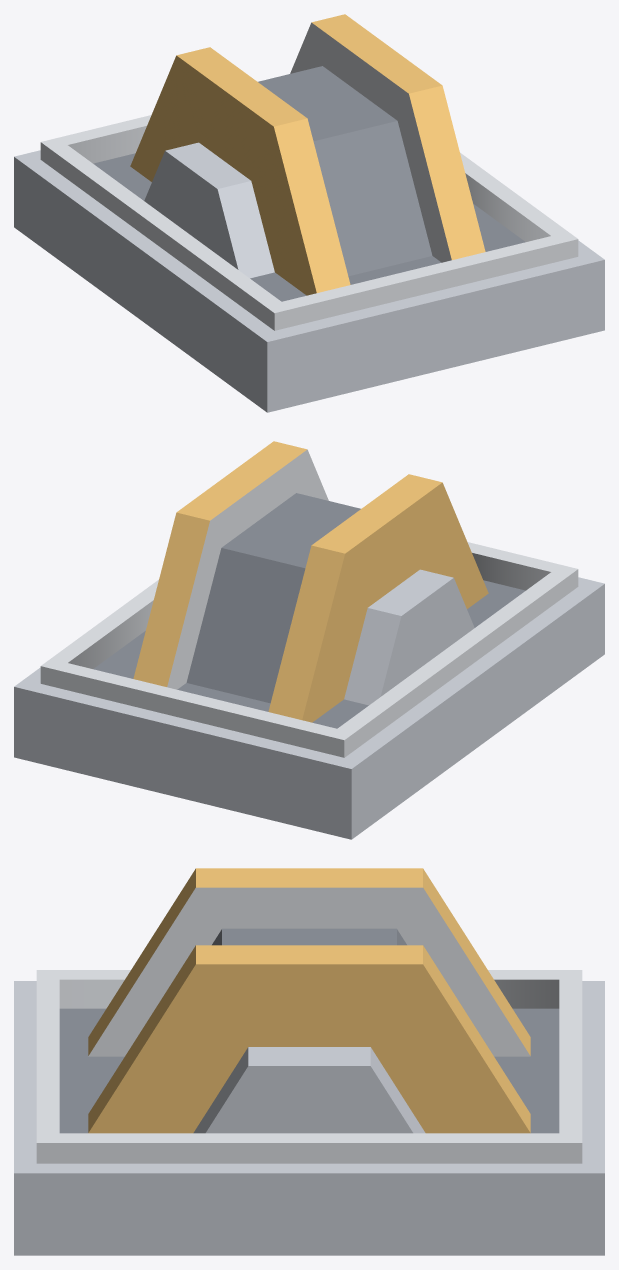
The model's file is genny.fbx.
3 renders of one model, top to bottom at view 1: azimuth 30°, elevation 25°; view 2: azimuth 150°, elevation 25°; view 3: azimuth 270°, elevation 25°, orthographic. The views are drawn at different scales.
Parts seen in each view (by area): view 1: genny-base, genny-bits; view 2: genny-base, genny-bits; view 3: genny-base, genny-bits.
Boxes of the visible parts, <box> form: genny-base: <box>14,115,604,412</box>; genny-bits: <box>130,14,485,295</box>; genny-base: <box>14,542,604,839</box>; genny-bits: <box>133,441,488,722</box>; genny-base: <box>14,970,604,1255</box>; genny-bits: <box>88,868,530,1133</box>.
Size of the model in its own units: 100 by 59 by 130.
